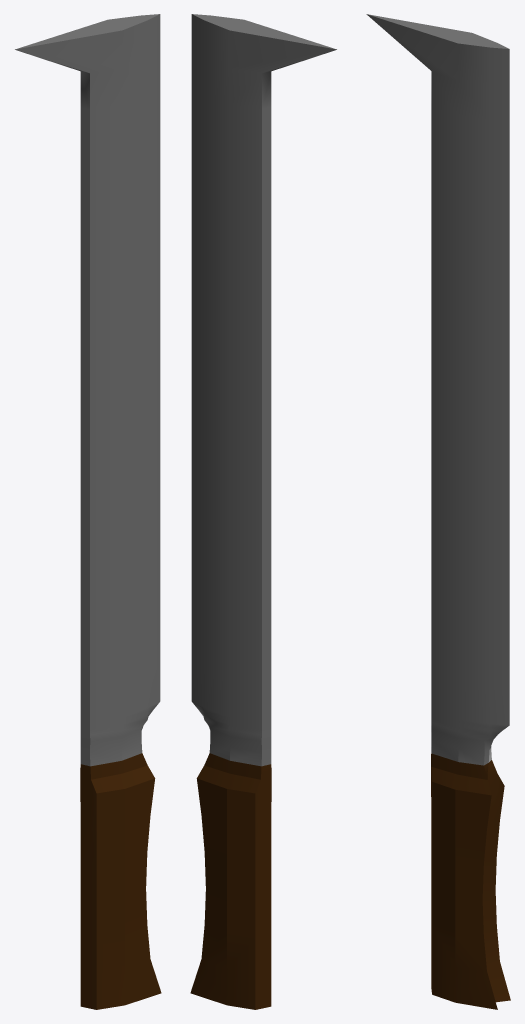
Rendered from sword+textures.fbx.
3 renders of one model, left to right at view 1: azimuth 30°, elevation 25°; view 2: azimuth 150°, elevation 25°; view 3: azimuth 330°, elevation 25°, orthographic.
Visible parts, largest first — view 1: pCube1; view 2: pCube1; view 3: pCube1.
Part boxes in pixels (bbox=[...]): pCube1: bbox=[15, 14, 161, 1009]; pCube1: bbox=[190, 14, 336, 1009]; pCube1: bbox=[366, 14, 510, 1009].
Size of the model in its own units: 212 by 1348 by 49.6.
